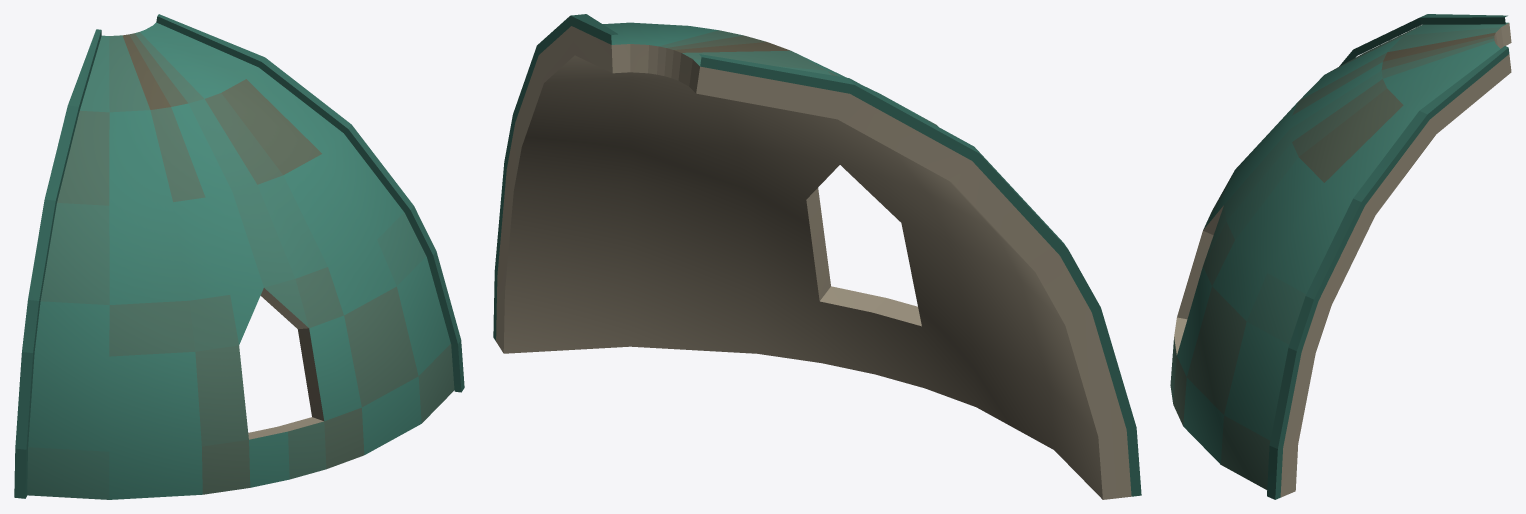
The model's file is dome.panel_4_window.copper.glb.
3 views of the same model, side by side, from view 1: azimuth 30°, elevation 25°; view 2: azimuth 150°, elevation 25°; view 3: azimuth 270°, elevation 25° (orthographic). The views are drawn at different scales.
Visible parts, largest first — view 1: dome_panel_4_window_copper; view 2: dome_panel_4_window_copper; view 3: dome_panel_4_window_copper.
Part boxes in pixels (<box>): dome_panel_4_window_copper: <box>14,14,464,499</box>; dome_panel_4_window_copper: <box>493,14,1141,499</box>; dome_panel_4_window_copper: <box>1170,14,1511,499</box>.
Size of what is drawn, in the model's own units: 5.05 by 3.63 by 3.18.
